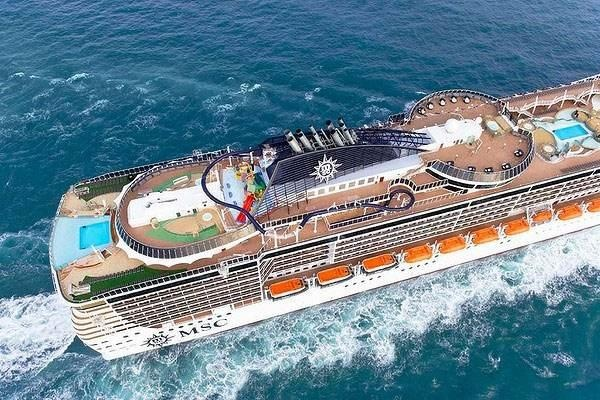youlun: (45, 73, 600, 365)
